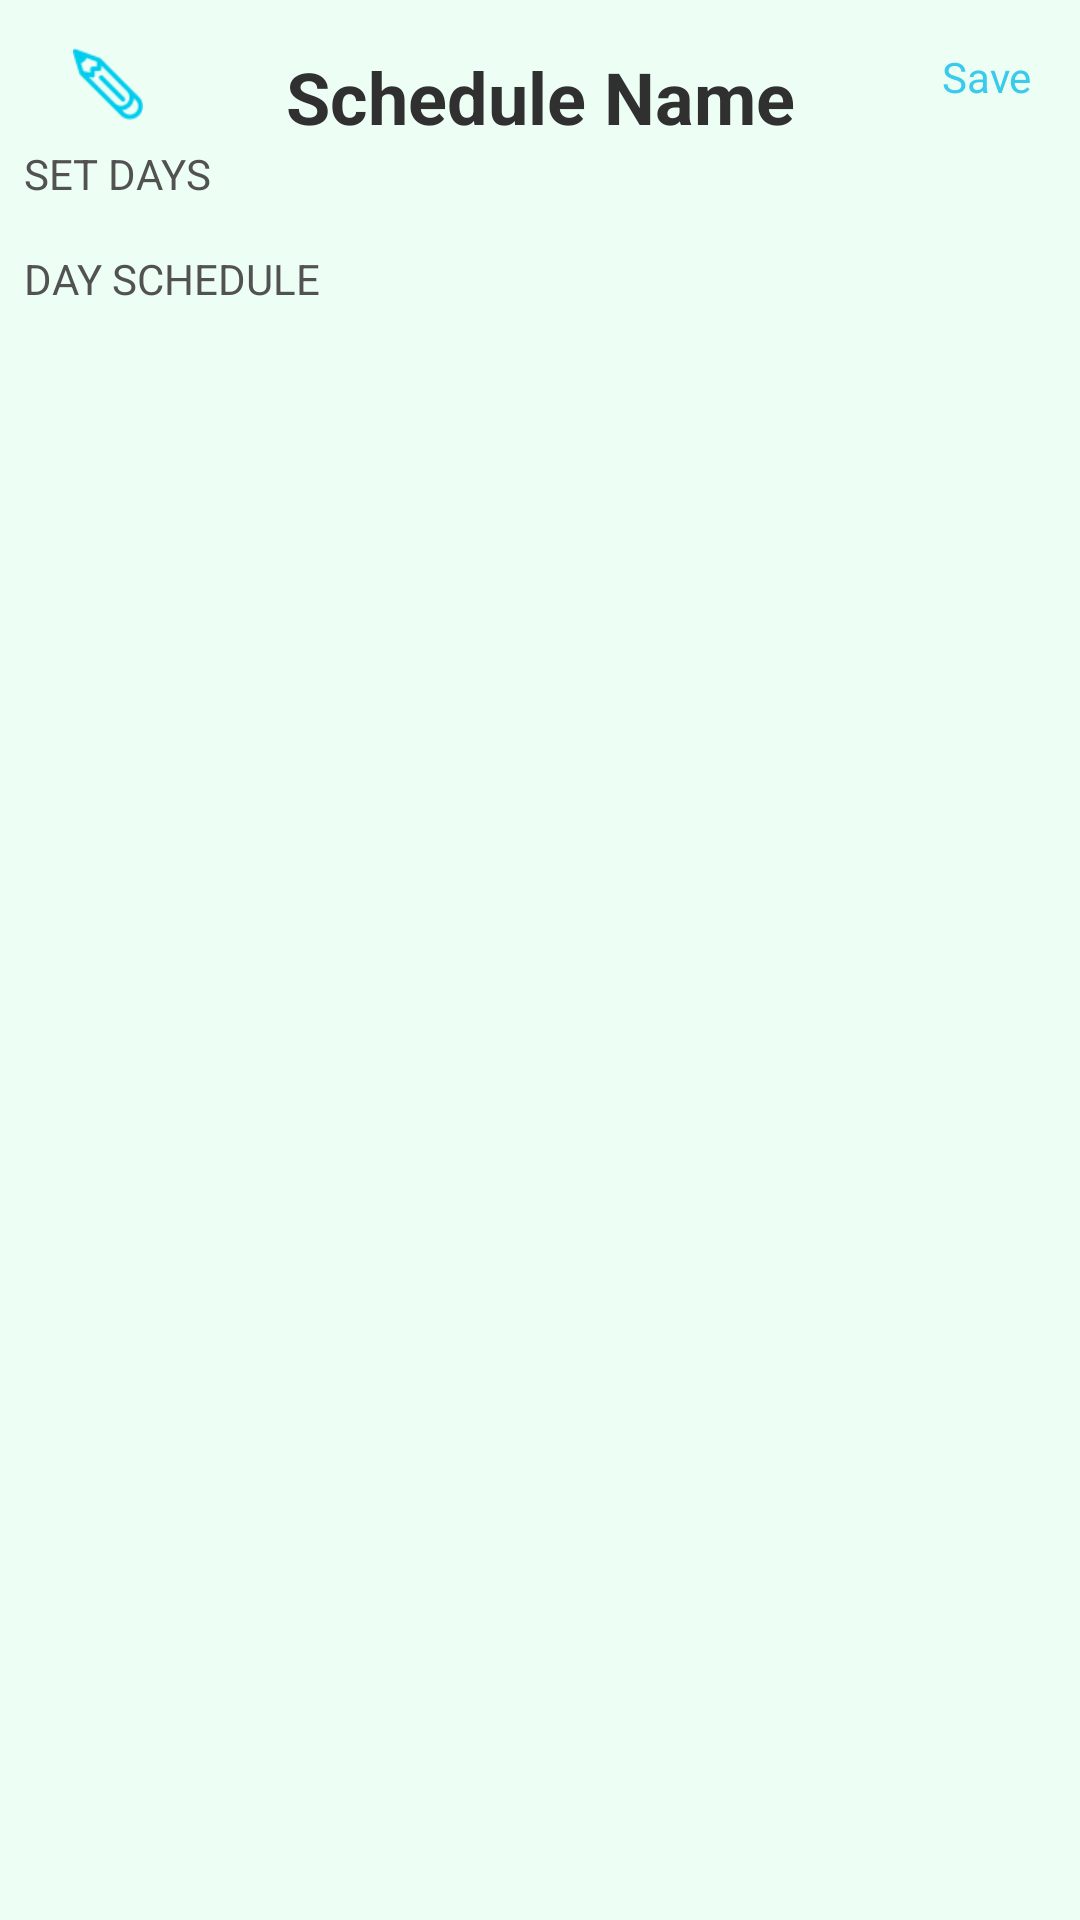

Point at icon controls on the screen. Image size 1080*1920, points as point (x, y).
images edit pen: point (108, 84)
